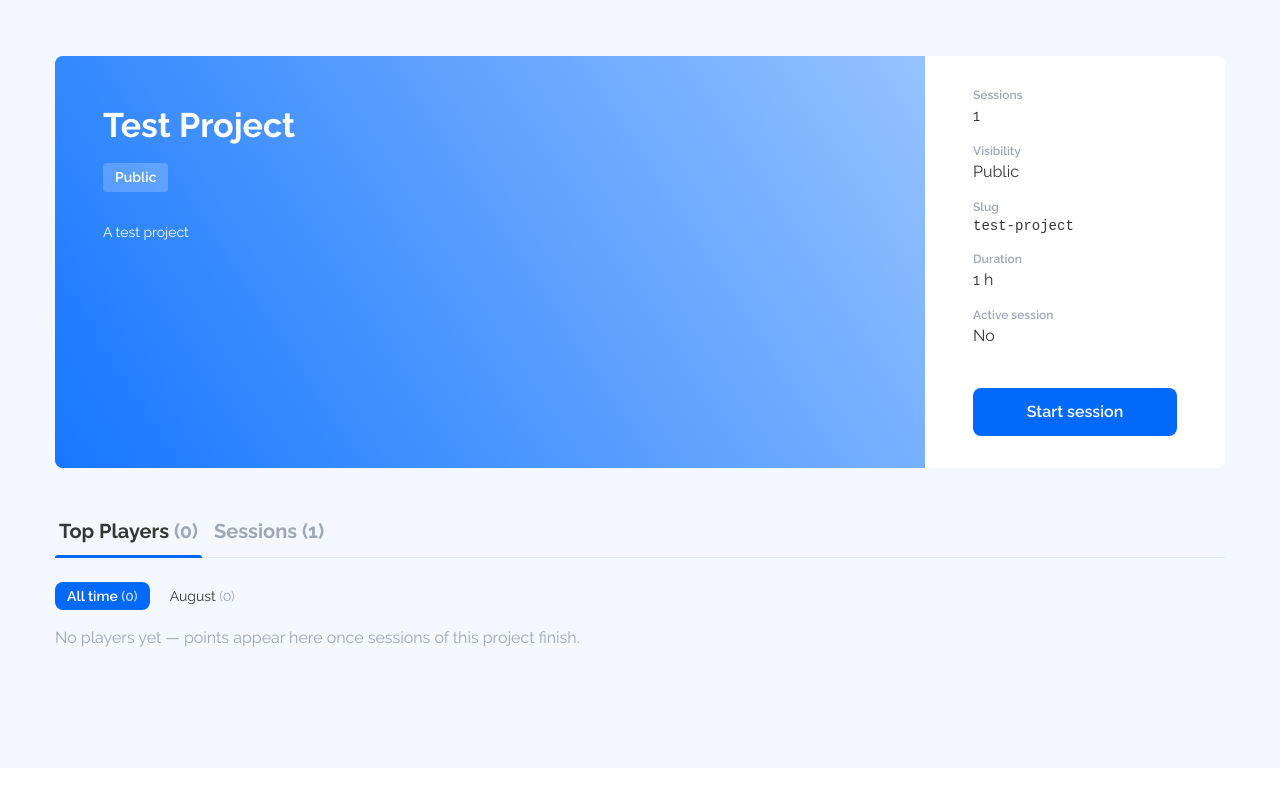
Test: routes/projects/[slug]/+page.svelte › shows player counts and the winner on finished session rows
Click the tab "Sessions (1)" at coordinates (269, 537), box [210,516,328,558]
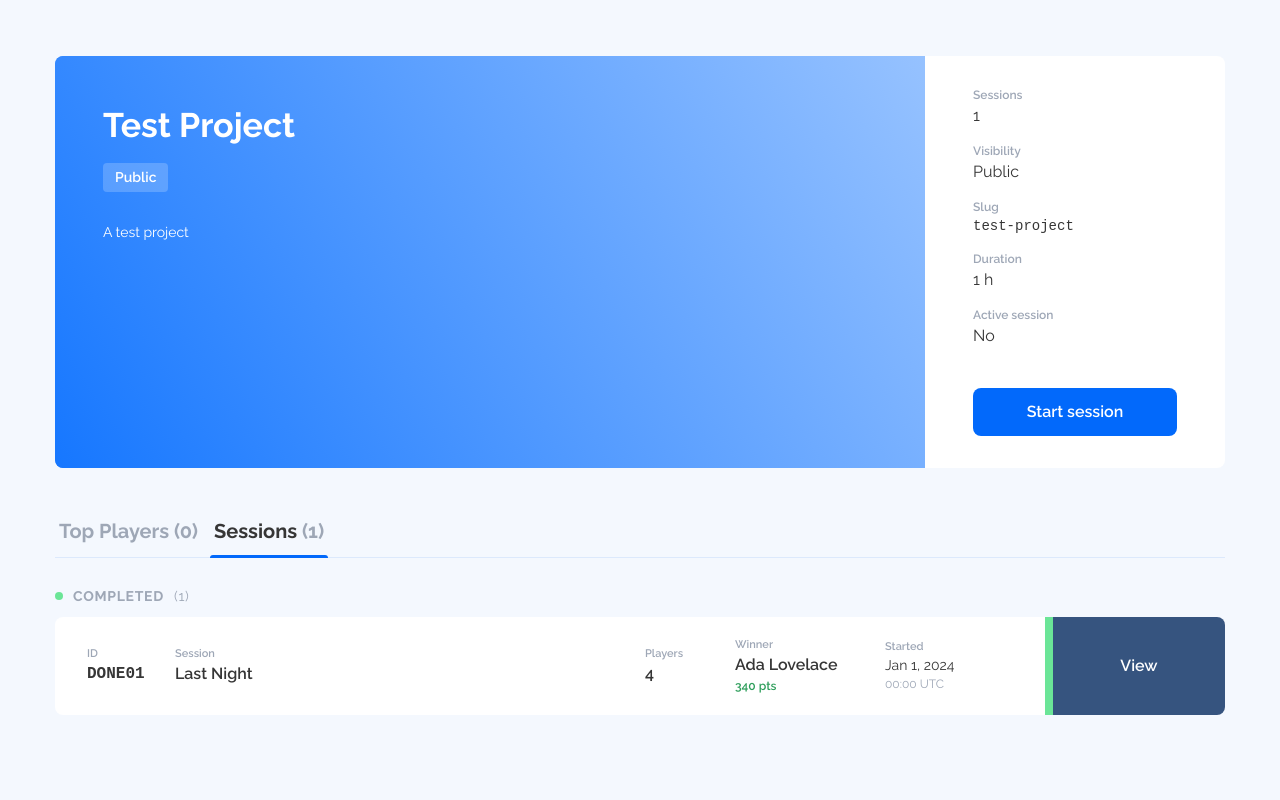
Now the text "4" is shown, box [645,664,654,683]
Now the text "Winner" is shown, box [735,638,773,651]
Now the text "Ada Lovelace" is shown, box [735,655,838,674]
